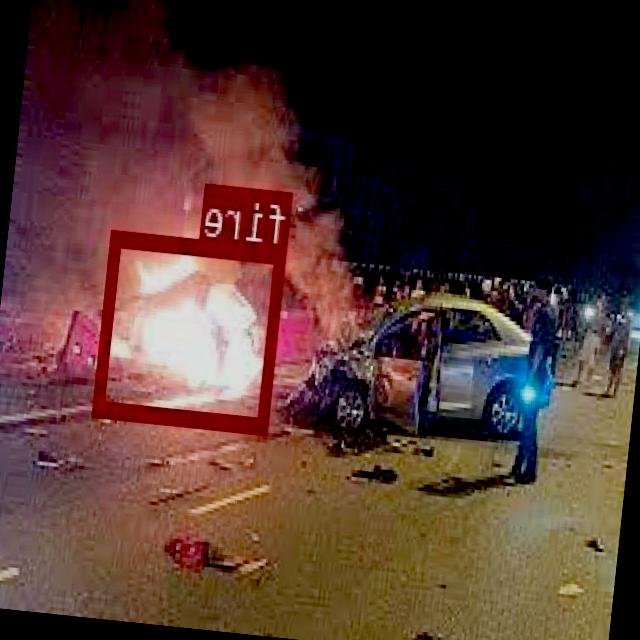fire: (95, 227, 288, 432)
